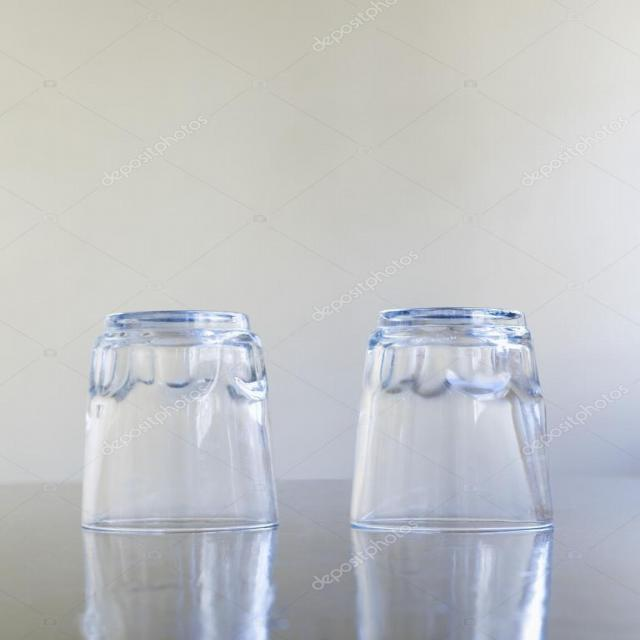non-organic waste: (81, 296, 277, 538)
